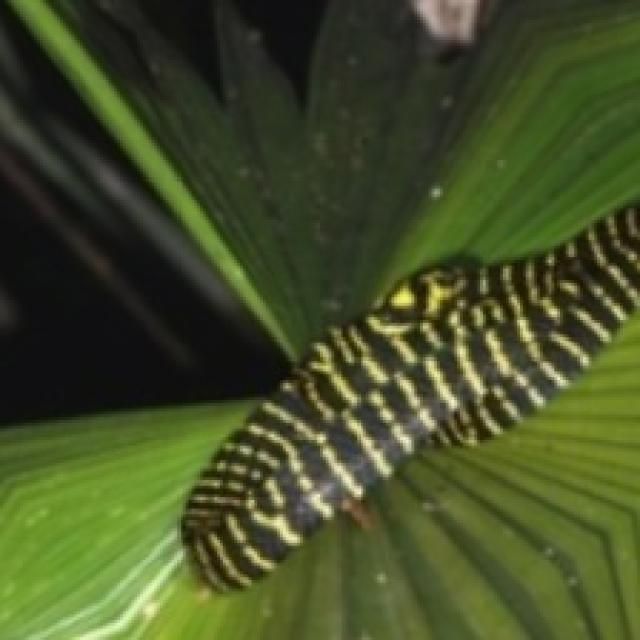mangrove cat snake: (180, 206, 637, 589), (183, 306, 463, 583)
